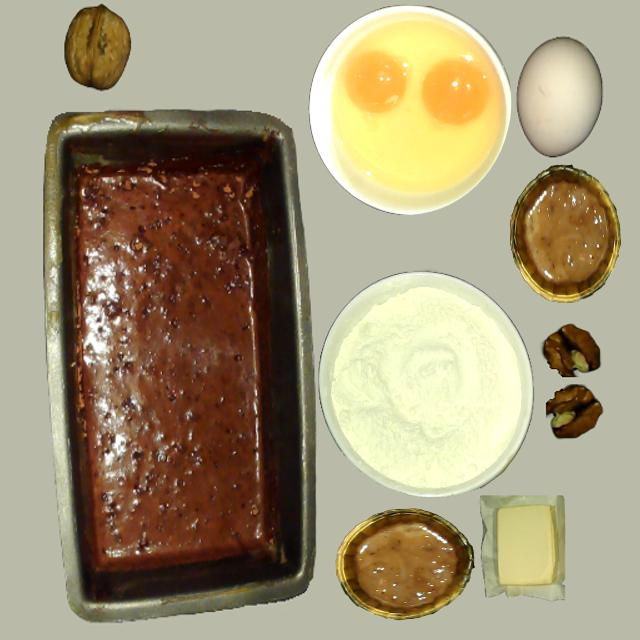Egg: (422, 57, 489, 125), (347, 51, 409, 114)
Flour: (318, 272, 532, 497)
Walnut: (65, 4, 130, 89)
